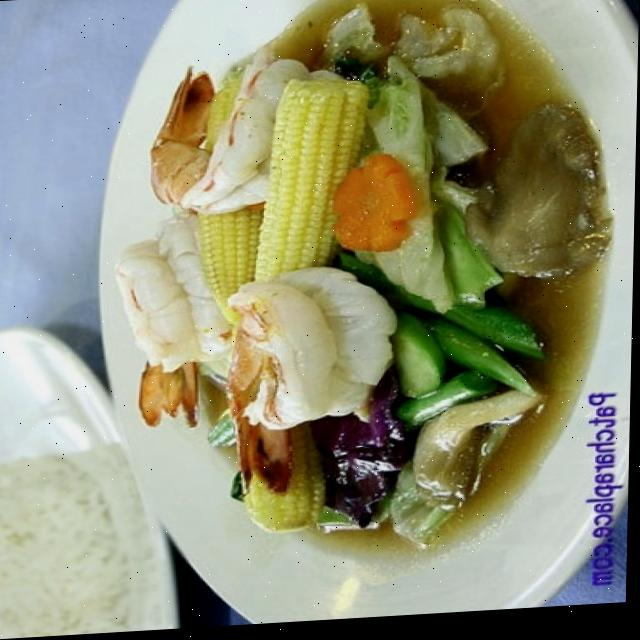蔬菜料理: (107, 0, 601, 590)
